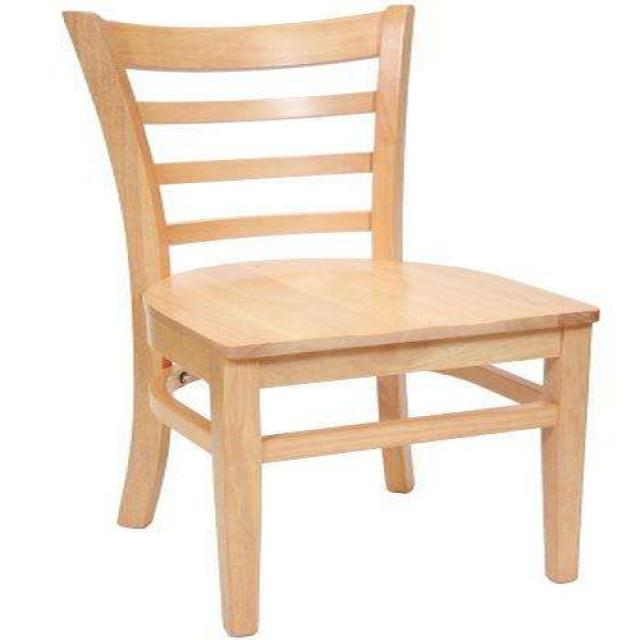chair: (63, 6, 602, 640)
